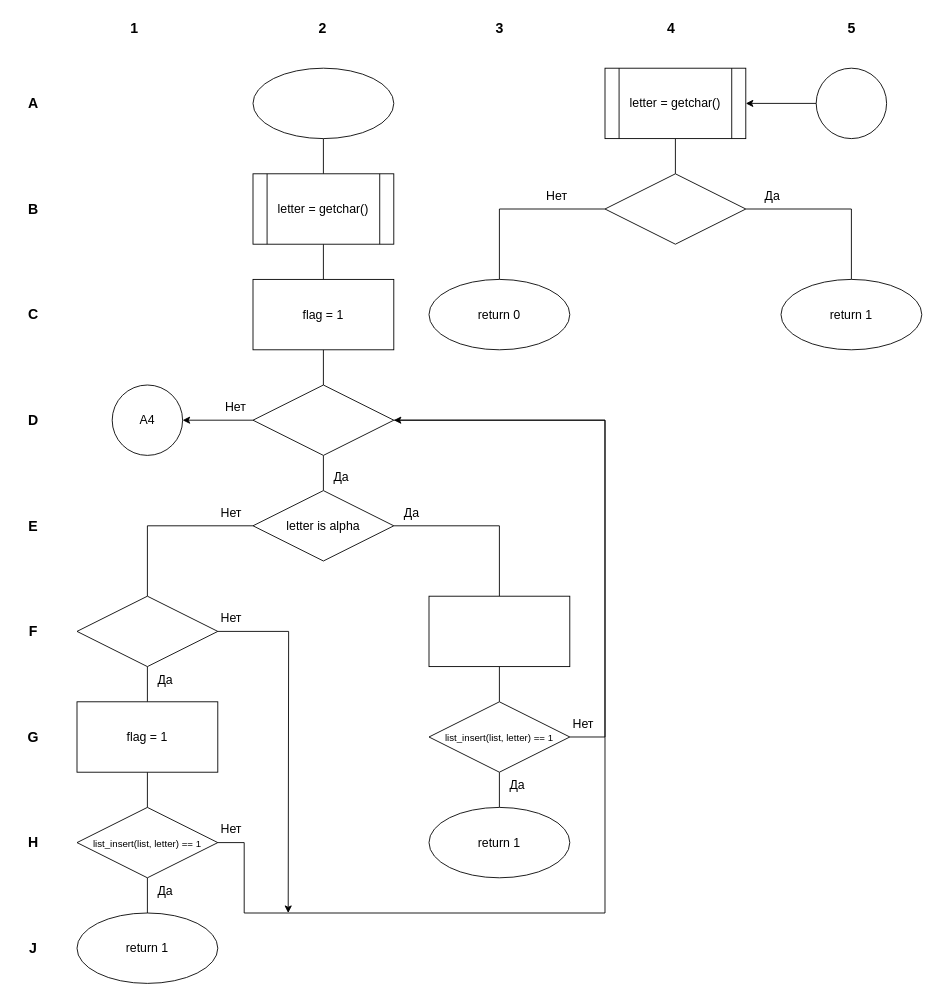
Some shapes in this 937 by 999 pixel diagram are drawn without their labels. The shapes that lost their labels are listed below. From the top down, each one's centre as x and y in pixels, then its label:
At (x=323, y=103): "input()".
At (x=851, y=103): "D2".
At (x=675, y=208): "letter == -1".
At (x=323, y=419): "letter != 10 && letter != -1".
At (x=147, y=631): "flag == 0".
At (x=499, y=631): "flag = 0".
